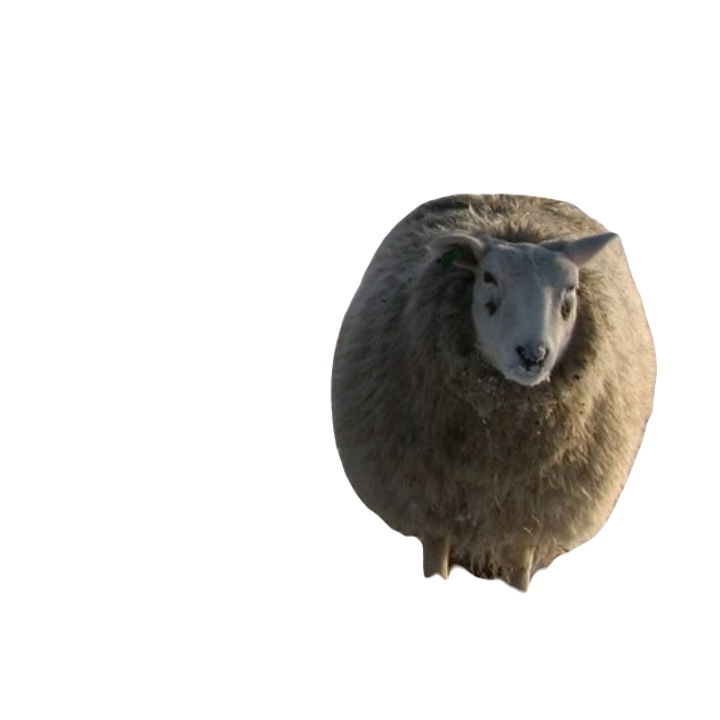Sheep: (327, 185, 662, 599)
